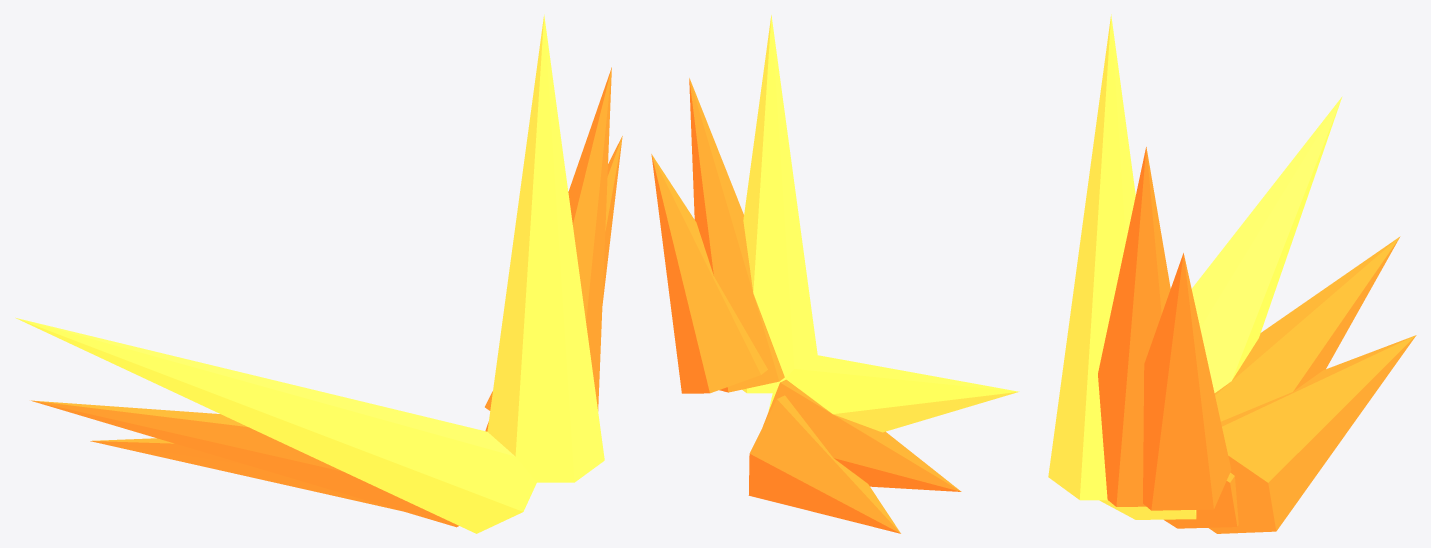
The model's file is SM_Keeper_Seraphs_Flame3.fbx.
The picture shows the model from 3 angles, left to right: view 1: azimuth 30°, elevation 25°; view 2: azimuth 150°, elevation 25°; view 3: azimuth 270°, elevation 25°; orthographic projection. The views are drawn at different scales.
Parts seen in each view (by area): view 1: SM_Keeper_Seraphs_Flame3; view 2: SM_Keeper_Seraphs_Flame3; view 3: SM_Keeper_Seraphs_Flame3.
Part boxes in pixels (x1,y1,x2,y2): SM_Keeper_Seraphs_Flame3: (15, 14, 622, 533); SM_Keeper_Seraphs_Flame3: (651, 15, 1019, 533); SM_Keeper_Seraphs_Flame3: (1048, 14, 1416, 533).
Size of the model in its own units: 1.62 by 1.54 by 0.9372.
